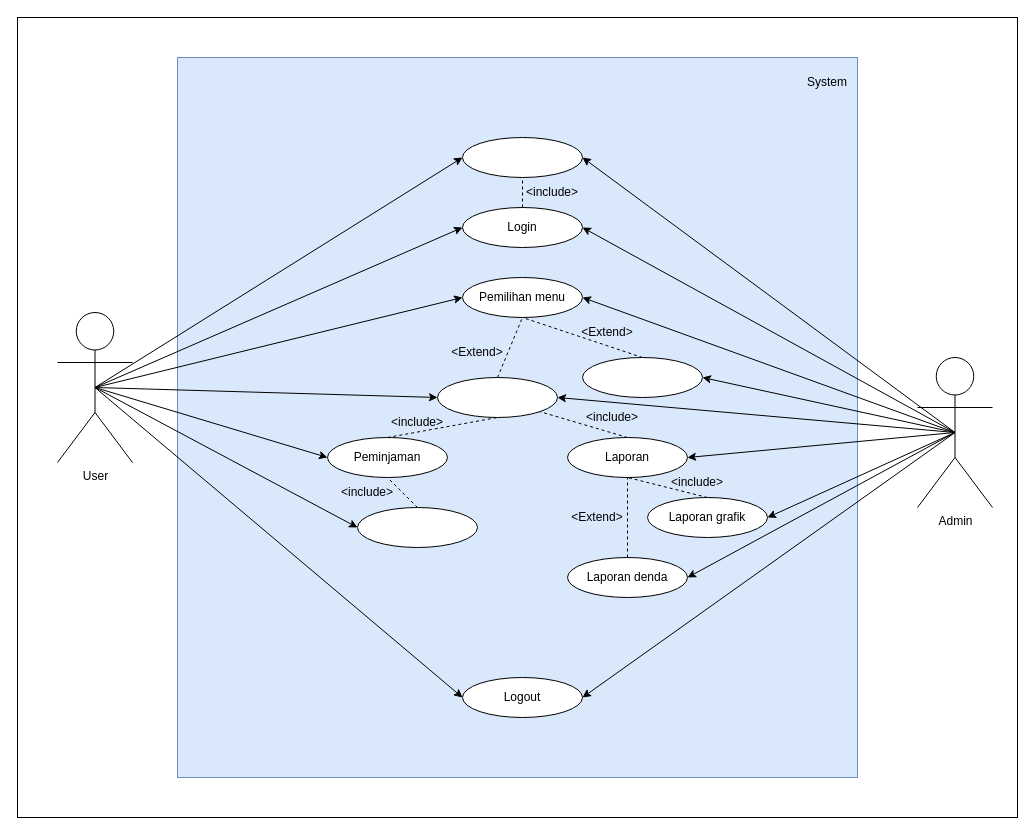
Some shapes in this 1035 by 835 pixel diagram are drawn without their labels. The shapes that lost their labels are listed below. From the top down, each one's box as (x1, y1, x2, y2) in pixels, then its label:
(462, 136, 582, 178): Daftar
(436, 376, 558, 418): Melakukan CRUD Transaksi
(582, 356, 702, 398): Melakukan CRUD Data buku
(356, 506, 478, 548): Pengembalian
